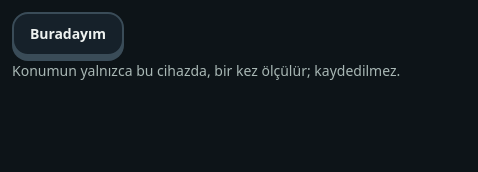
Test: Buradayım düğmesi › uzaktaysa mesafeyi söyler, mühür basmaz
This screenshot has width=478, height=172.
Click the button "Buradayım": x=68, y=34 [12,12,124,56]
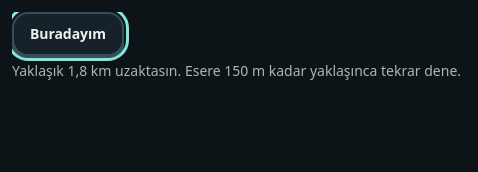
Now the text "Yaklaşık 1,8 km uzaktasın. Esere 150 m kadar yaklaşınca tekrar dene." is shown, box [12,60,461,82]
